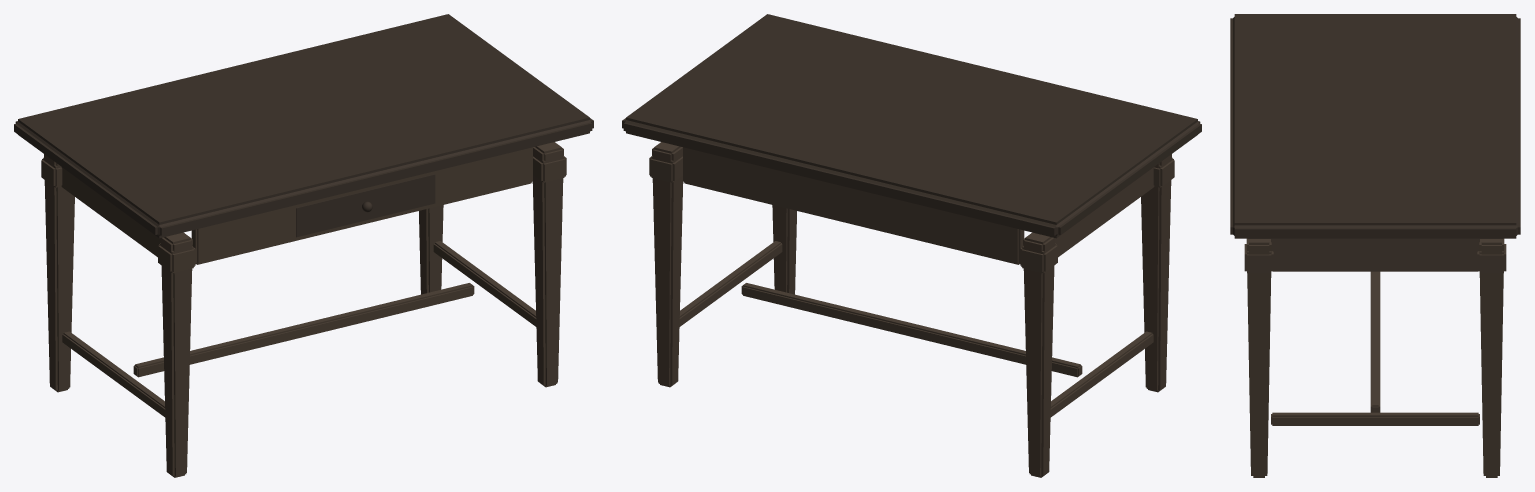
File: table_noir_v2.glb
The picture shows the model from 3 angles, left to right: view 1: azimuth 30°, elevation 25°; view 2: azimuth 150°, elevation 25°; view 3: azimuth 270°, elevation 25°; orthographic projection.
Parts seen in each view (by area): view 1: table_noir; view 2: table_noir; view 3: table_noir.
Boxes of the visible parts, box(x1,y1,x2,y2) form: table_noir: box(14, 14, 593, 477); table_noir: box(622, 14, 1201, 477); table_noir: box(1230, 14, 1520, 477).
Size of the model in its own units: 1.3 by 0.76 by 0.75.
